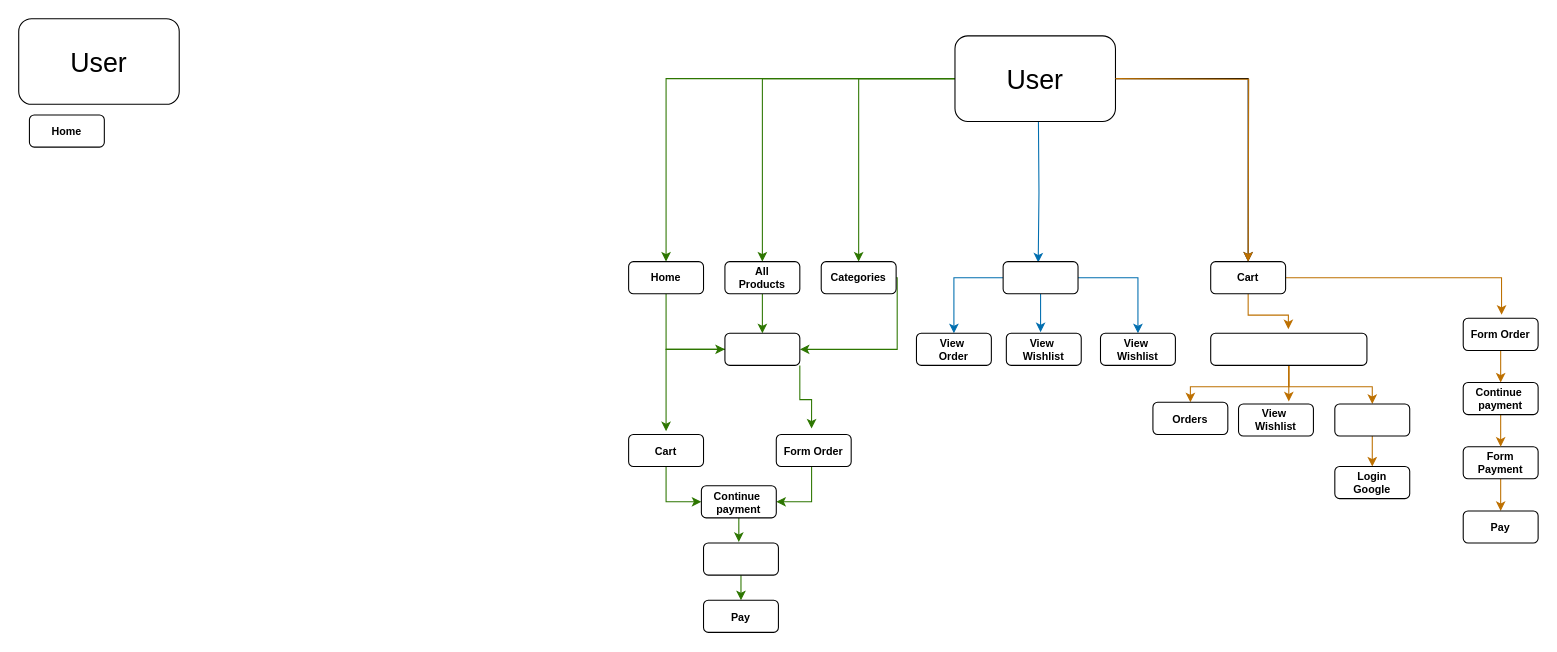
This 1557x652 diagram has some shape labels left out. The box of each missing label's shape, as (x1, y1, x2, y2) in pixels:
Account: (1002, 261, 1078, 294)
Checkout: (1210, 332, 1367, 365)
Choose Product: (724, 332, 800, 365)
Login: (1334, 403, 1410, 436)
